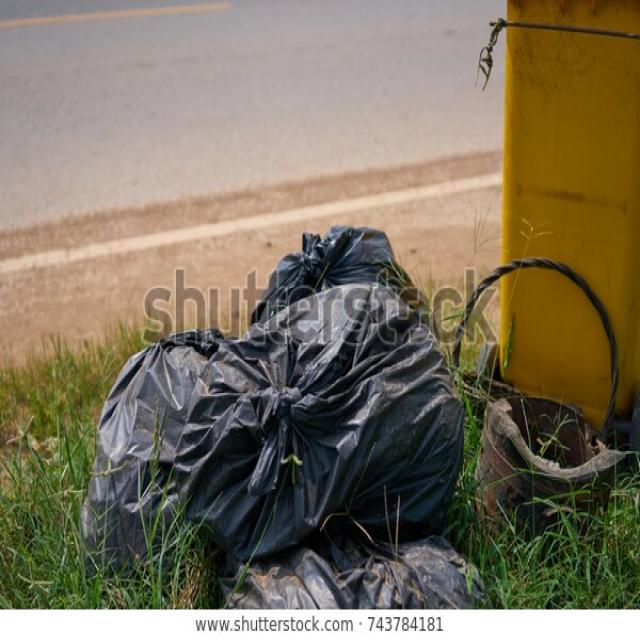plastic_bag: (183, 297, 461, 521), (77, 345, 245, 568), (213, 515, 499, 615)
